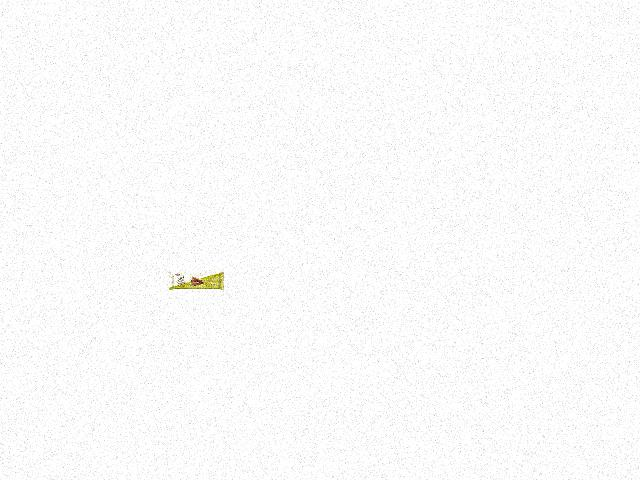chocolate: (165, 267, 226, 295)
